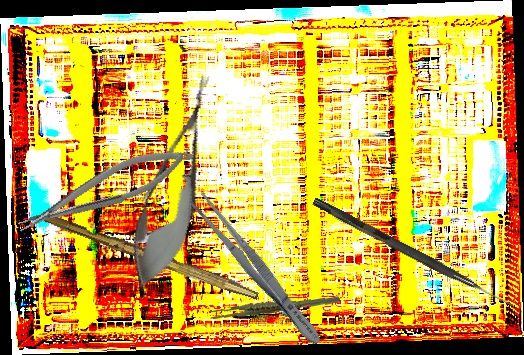Dressing Forceps: (186, 189, 328, 351)
Hook Surgical: (310, 197, 518, 310)
Micro Scissor: (116, 64, 234, 302)
Needle Holder: (10, 136, 199, 241)
Scalpel Handle: (41, 211, 262, 301)
Tissue Forceps: (209, 286, 340, 329)
